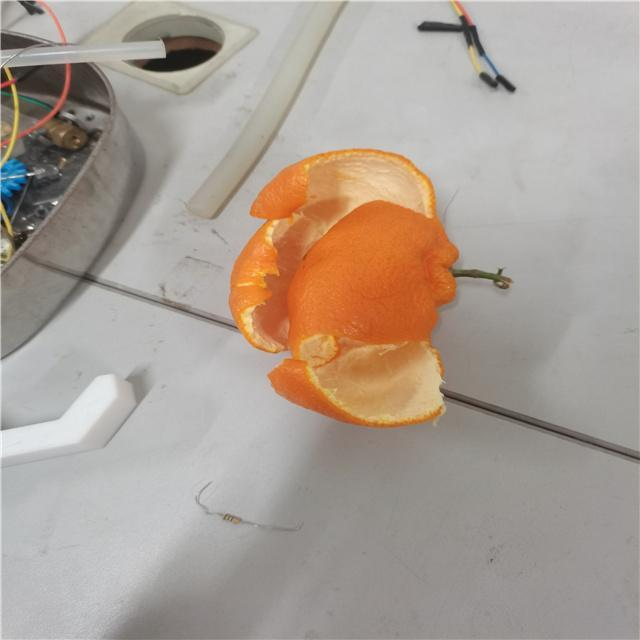orange-peel: (229, 144, 514, 426)
